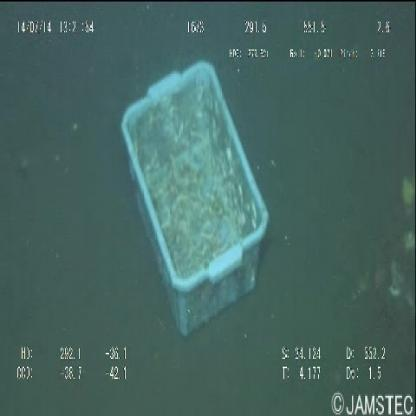Rác: (113, 45, 280, 342)
